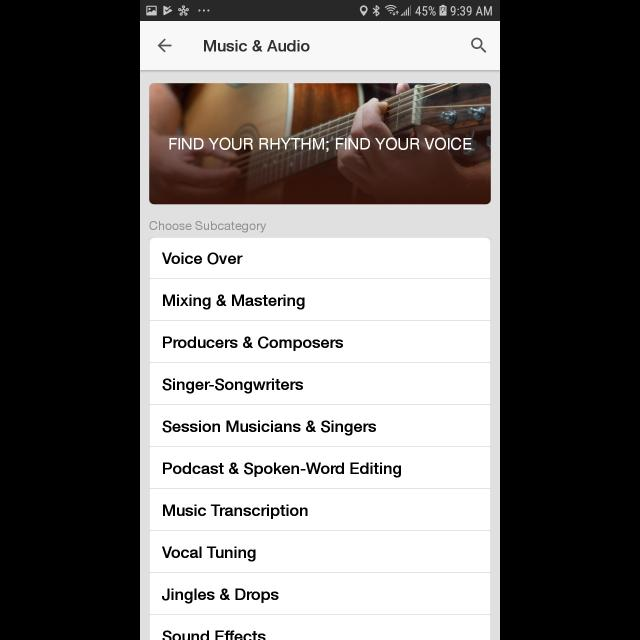icon: (471, 38, 487, 54), (158, 39, 172, 53)
image: (150, 83, 490, 205)
text: (163, 462, 401, 478), (170, 138, 472, 150), (163, 420, 377, 436), (163, 336, 343, 352), (164, 504, 308, 520), (163, 294, 305, 310), (162, 378, 304, 394), (162, 588, 278, 604), (162, 546, 256, 562), (150, 221, 266, 233), (204, 40, 310, 52), (162, 630, 266, 640), (162, 253, 244, 265)
uppertaskbar: (140, 1, 500, 22)
